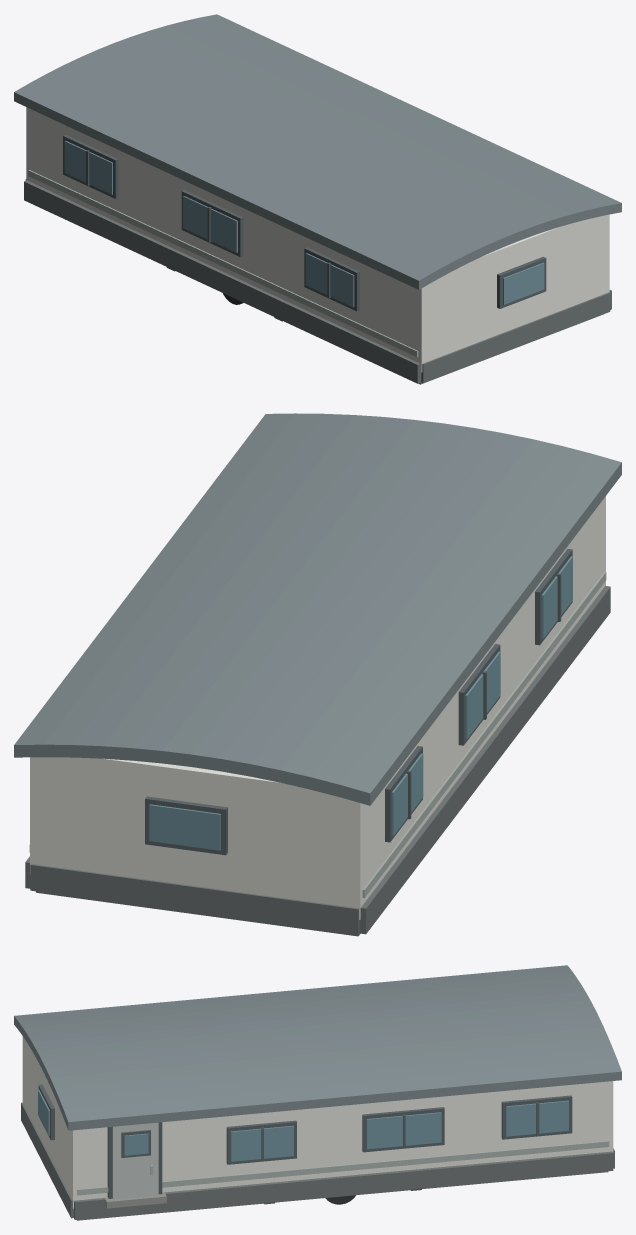
3 renders of one model, top to bottom at view 1: azimuth 30°, elevation 25°; view 2: azimuth 150°, elevation 25°; view 3: azimuth 270°, elevation 25°, orthographic. The views are drawn at different scales.
Parts seen in each view (by area): view 1: shallow_crowned_roof, main_caravan_body, lower_side_skirt_negative, lower_end_skirt_positive, side_stripe_negative, negative_side_window_2_glass, negative_side_window_3_glass, negative_side_window_1_glass, front_end_window_glass, negative_side_window_2_frame, negative_side_window_3_frame, negative_side_window_1_frame (+1 smaller); view 2: shallow_crowned_roof, main_caravan_body, lower_end_skirt_negative, lower_side_skirt_negative, side_stripe_negative, rear_end_window_glass, negative_side_window_2_glass, rear_end_window_frame, negative_side_window_1_glass, negative_side_window_3_glass, negative_side_window_2_frame, negative_side_window_1_frame (+1 smaller); view 3: shallow_crowned_roof, main_caravan_body, lower_side_skirt_positive, side_stripe_positive, entrance_door_panel, positive_side_window_2_glass, positive_side_window_1_glass, positive_side_window_3_glass, lower_end_skirt_positive, positive_side_window_2_frame, positive_side_window_1_frame, positive_side_window_3_frame (+4 smaller).
Part boxes in pixels (x1=…): shallow_crowned_roof: x1=14, y1=14, x2=621, y2=289; main_caravan_body: x1=26, y1=107, x2=609, y2=372; lower_side_skirt_negative: x1=24, y1=180, x2=421, y2=383; lower_end_skirt_positive: x1=421, y1=292, x2=610, y2=383; side_stripe_negative: x1=28, y1=170, x2=418, y2=357; negative_side_window_2_glass: x1=183, y1=196, x2=237, y2=252; negative_side_window_3_glass: x1=305, y1=253, x2=354, y2=307; negative_side_window_1_glass: x1=64, y1=140, x2=112, y2=194; front_end_window_glass: x1=503, y1=262, x2=544, y2=304; negative_side_window_2_frame: x1=181, y1=190, x2=243, y2=257; negative_side_window_3_frame: x1=304, y1=247, x2=359, y2=311; negative_side_window_1_frame: x1=63, y1=135, x2=118, y2=198; shallow_crowned_roof: x1=14, y1=413, x2=621, y2=805; main_caravan_body: x1=30, y1=496, x2=605, y2=919; lower_end_skirt_negative: x1=30, y1=864, x2=359, y2=934; lower_side_skirt_negative: x1=359, y1=586, x2=610, y2=934; side_stripe_negative: x1=362, y1=571, x2=606, y2=898; rear_end_window_glass: x1=149, y1=804, x2=220, y2=850; negative_side_window_2_glass: x1=465, y1=651, x2=500, y2=738; rear_end_window_frame: x1=145, y1=796, x2=227, y2=855; negative_side_window_1_glass: x1=391, y1=753, x2=423, y2=835; negative_side_window_3_glass: x1=541, y1=556, x2=572, y2=638; negative_side_window_2_frame: x1=458, y1=644, x2=500, y2=745; negative_side_window_1_frame: x1=385, y1=746, x2=422, y2=842; shallow_crowned_roof: x1=14, y1=965, x2=621, y2=1130; main_caravan_body: x1=22, y1=1036, x2=613, y2=1208; lower_side_skirt_positive: x1=74, y1=1151, x2=613, y2=1219; side_stripe_positive: x1=77, y1=1141, x2=609, y2=1195; entrance_door_panel: x1=112, y1=1122, x2=158, y2=1199; positive_side_window_2_glass: x1=366, y1=1112, x2=441, y2=1149; positive_side_window_1_glass: x1=506, y1=1100, x2=568, y2=1136; positive_side_window_3_glass: x1=231, y1=1125, x2=293, y2=1161; lower_end_skirt_positive: x1=21, y1=1102, x2=73, y2=1218; positive_side_window_2_frame: x1=362, y1=1107, x2=444, y2=1152; positive_side_window_1_frame: x1=501, y1=1095, x2=572, y2=1139; positive_side_window_3_frame: x1=226, y1=1120, x2=296, y2=1164.
Bounding box in the file's own units: 6.66 × 2.5 × 10.91.
